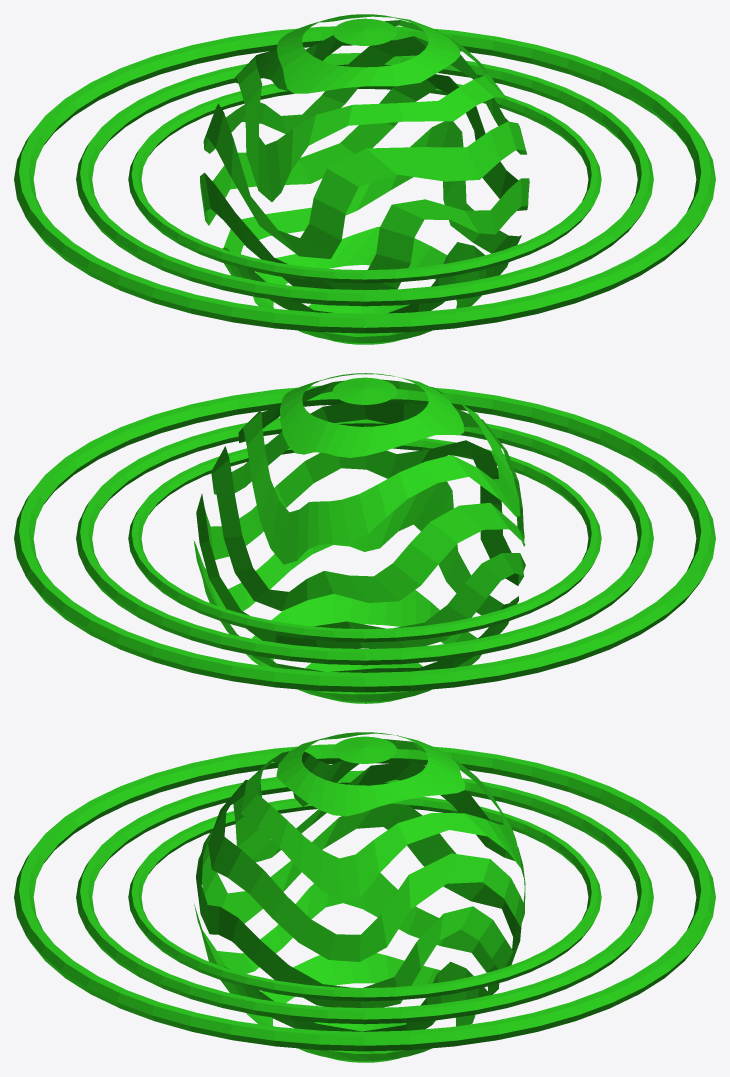
File: Abstract Sphere Green.fbx
3 views of the same model, one above another, from view 1: azimuth 30°, elevation 25°; view 2: azimuth 150°, elevation 25°; view 3: azimuth 270°, elevation 25° (orthographic).
Parts seen in each view (by area): view 1: Sphere.003, Torus.011, Torus.010, Torus.009; view 2: Sphere.003, Torus.011, Torus.010, Torus.009; view 3: Sphere.003, Torus.011, Torus.010, Torus.009.
Part boxes in pixels (bbox=[...]): Sphere.003: bbox=[200, 14, 529, 344]; Torus.011: bbox=[14, 26, 715, 333]; Torus.010: bbox=[76, 53, 653, 306]; Torus.009: bbox=[128, 83, 601, 283]; Sphere.003: bbox=[193, 373, 525, 703]; Torus.011: bbox=[14, 385, 715, 692]; Torus.010: bbox=[76, 417, 653, 665]; Torus.009: bbox=[128, 438, 601, 642]; Sphere.003: bbox=[194, 732, 525, 1062]; Torus.011: bbox=[14, 744, 715, 1051]; Torus.010: bbox=[76, 770, 653, 1024]; Torus.009: bbox=[128, 797, 601, 1001].
Bounding box in the file's own units: 424 × 200 × 424.
